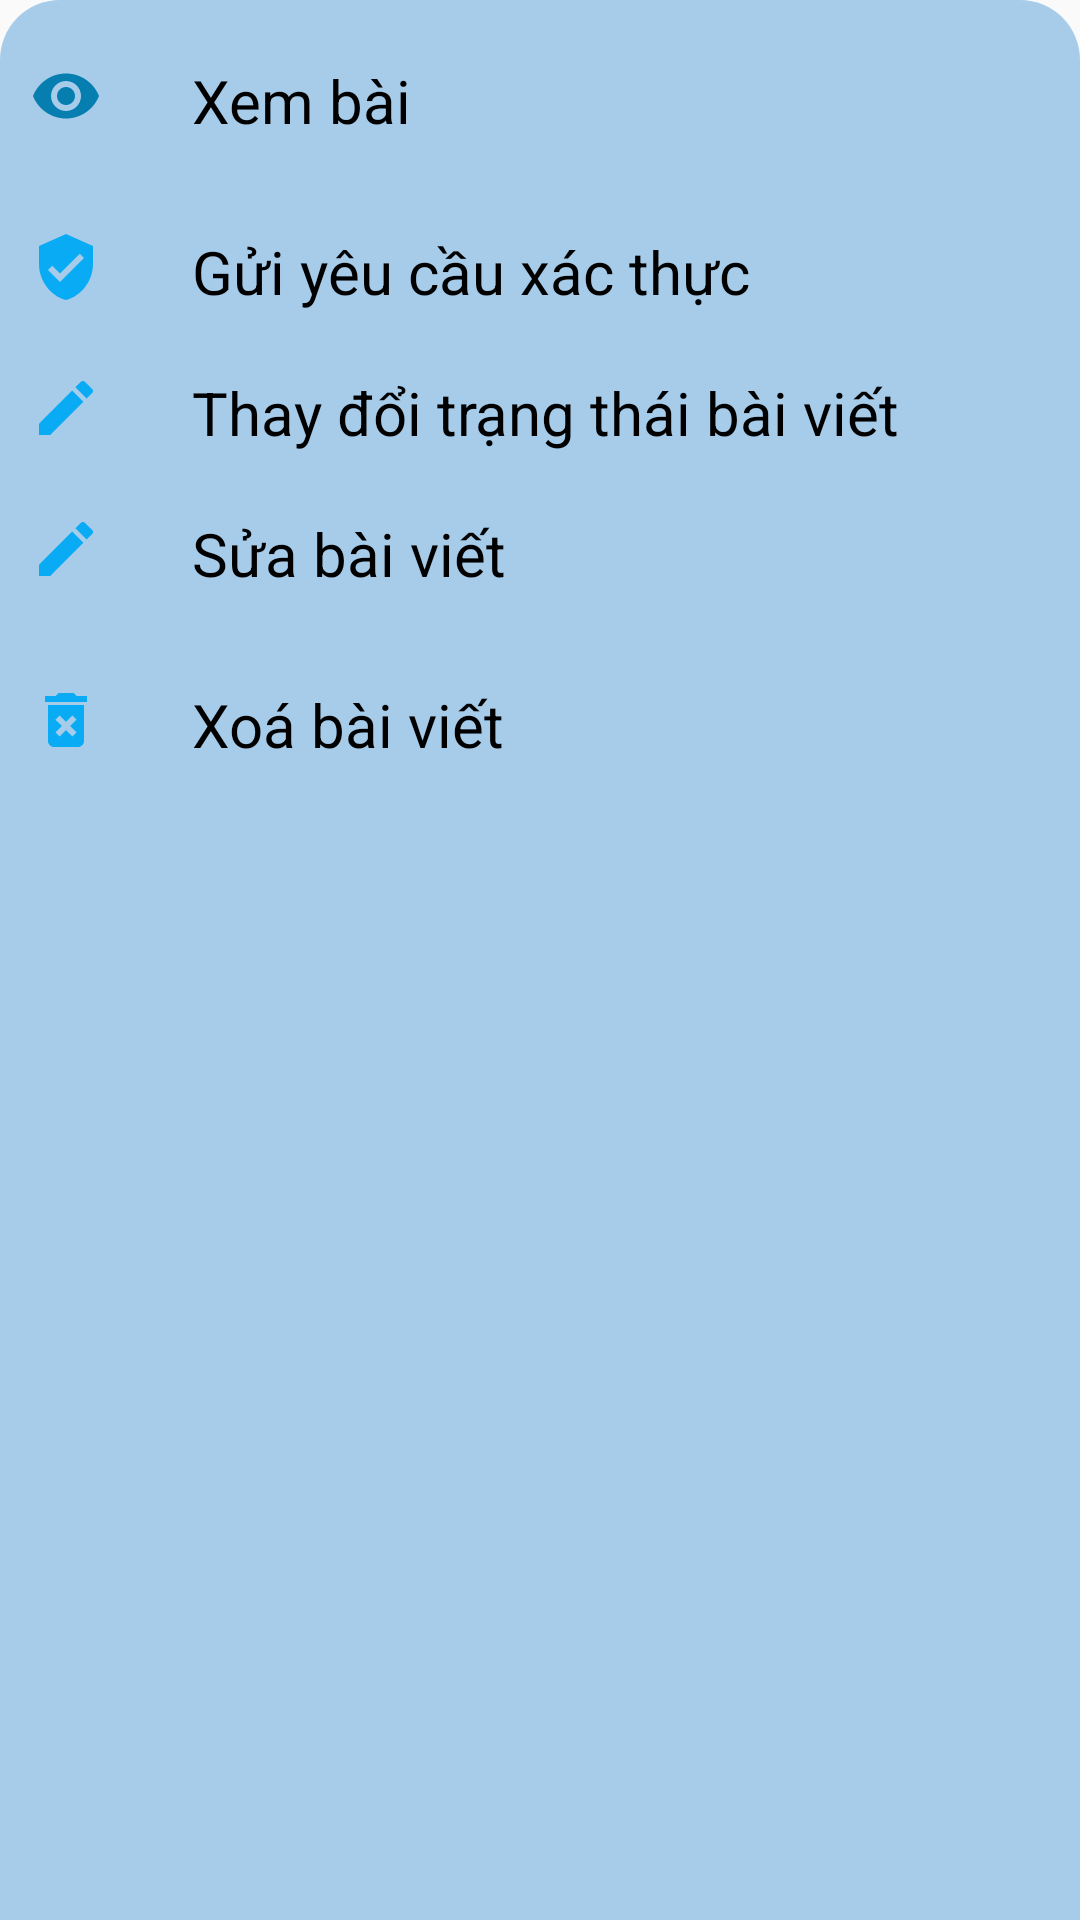

Screen size 1080×1920. Icon name, then its center in pixels as (x,y):
delete forever: (66,720)
edit: (66,408), (66,549)
verify: (66,267)
